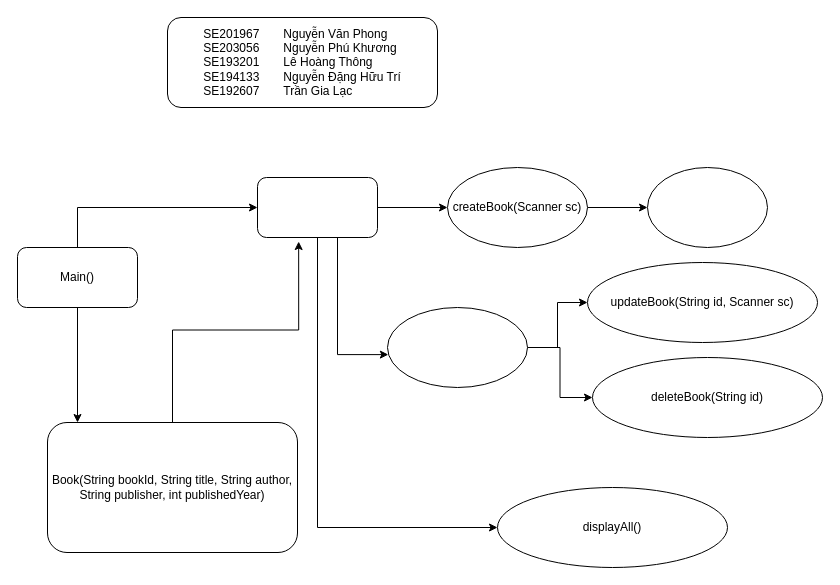
The diagram is 840 pixels wide and 585 high, and some of its shapes have lost their labels. The shapes that lost their labels are listed below. From the top down, each one's centre as x and y in pixels, then its label:
[317,207]: LibraryManager extends ArrayList<Book>
[707,207]: addBook(Book b)
[457,347]: searchById(String id)
